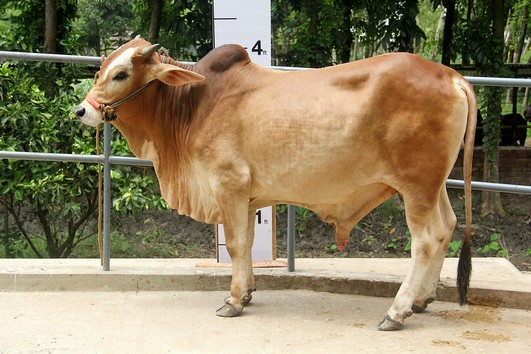cow: (68, 26, 484, 333)
